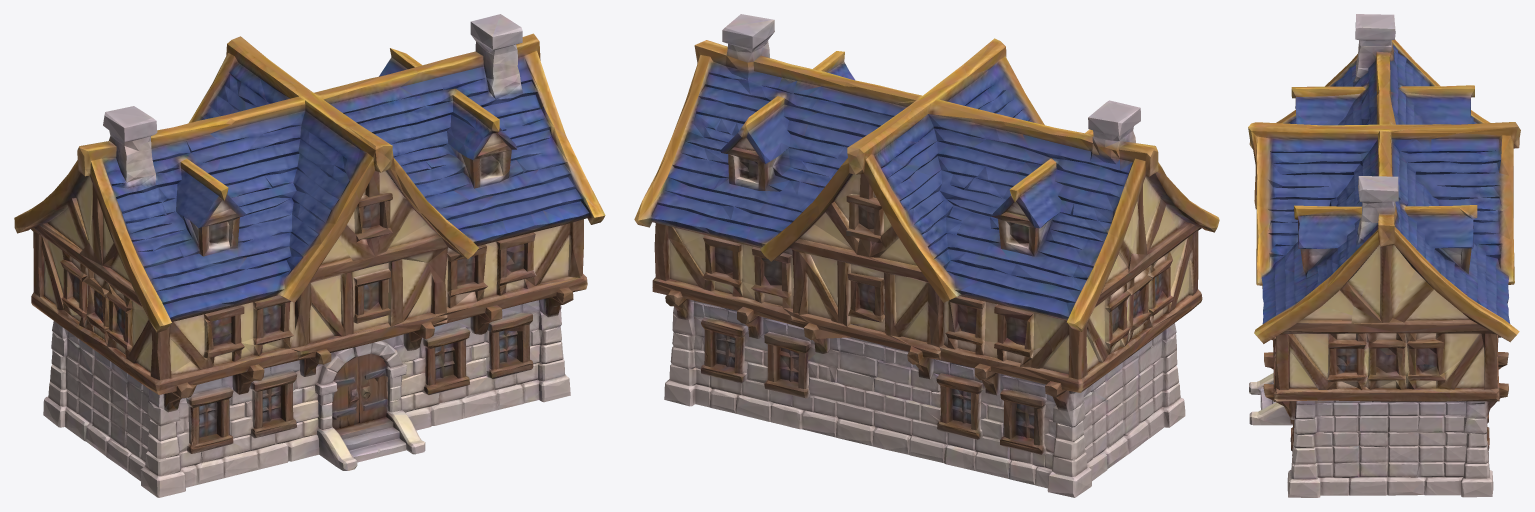
File: oc_house_wide.glb
3 renders of one model, left to right at view 1: azimuth 30°, elevation 25°; view 2: azimuth 150°, elevation 25°; view 3: azimuth 270°, elevation 25°, orthographic. The views are drawn at different scales.
Visible parts, largest first — view 1: W_city_house_2storey_wide; view 2: W_city_house_2storey_wide; view 3: W_city_house_2storey_wide.
Part boxes in pixels (bbox=[...]): W_city_house_2storey_wide: bbox=[14, 14, 605, 497]; W_city_house_2storey_wide: bbox=[634, 14, 1219, 497]; W_city_house_2storey_wide: bbox=[1248, 14, 1520, 497].
Bounding box in the file's own units: 13 × 9.18 × 7.44.
Materials: 1 (1 with a texture image).
